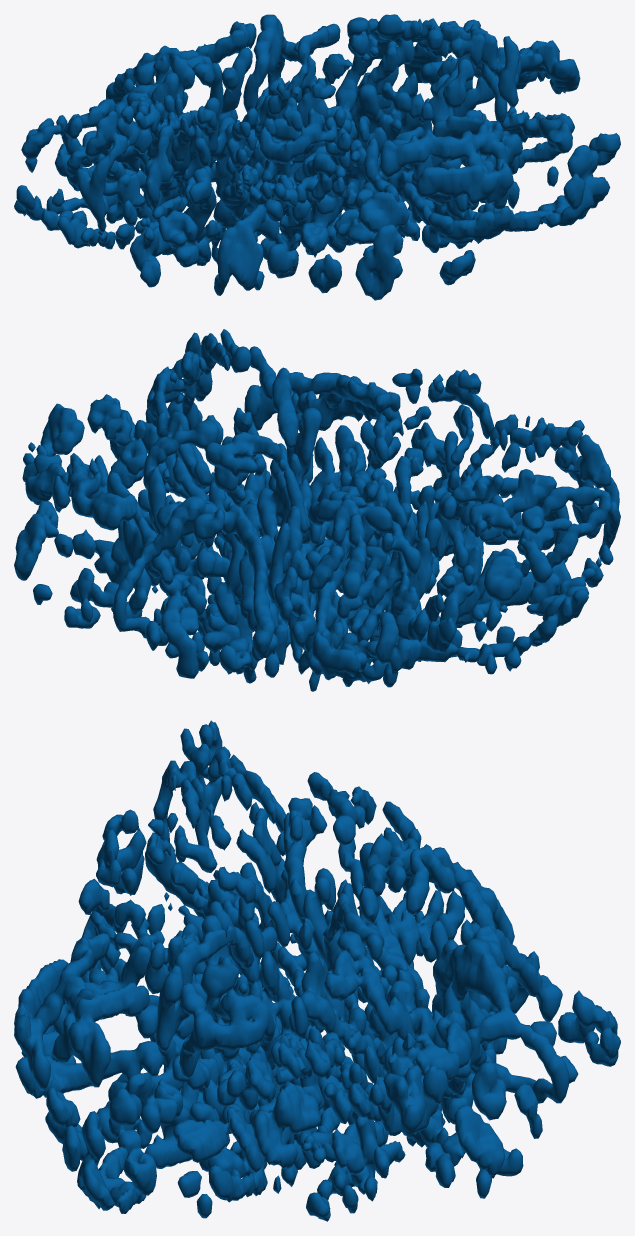
Rendered from 30_6HR_donuts.glb.
3 renders of one model, top to bottom at view 1: azimuth 30°, elevation 25°; view 2: azimuth 150°, elevation 25°; view 3: azimuth 270°, elevation 25°, orthographic. The views are drawn at different scales.
Parts seen in each view (by area): view 1: 30_6HR_1; view 2: 30_6HR_1; view 3: 30_6HR_1.
Part boxes in pixels (box(x1,y1,x2,y2)): 30_6HR_1: box(14, 14, 620, 300); 30_6HR_1: box(14, 329, 620, 691); 30_6HR_1: box(14, 720, 620, 1221).
Bounding box in the file's own units: 23.19 × 9.49 × 18.14.
